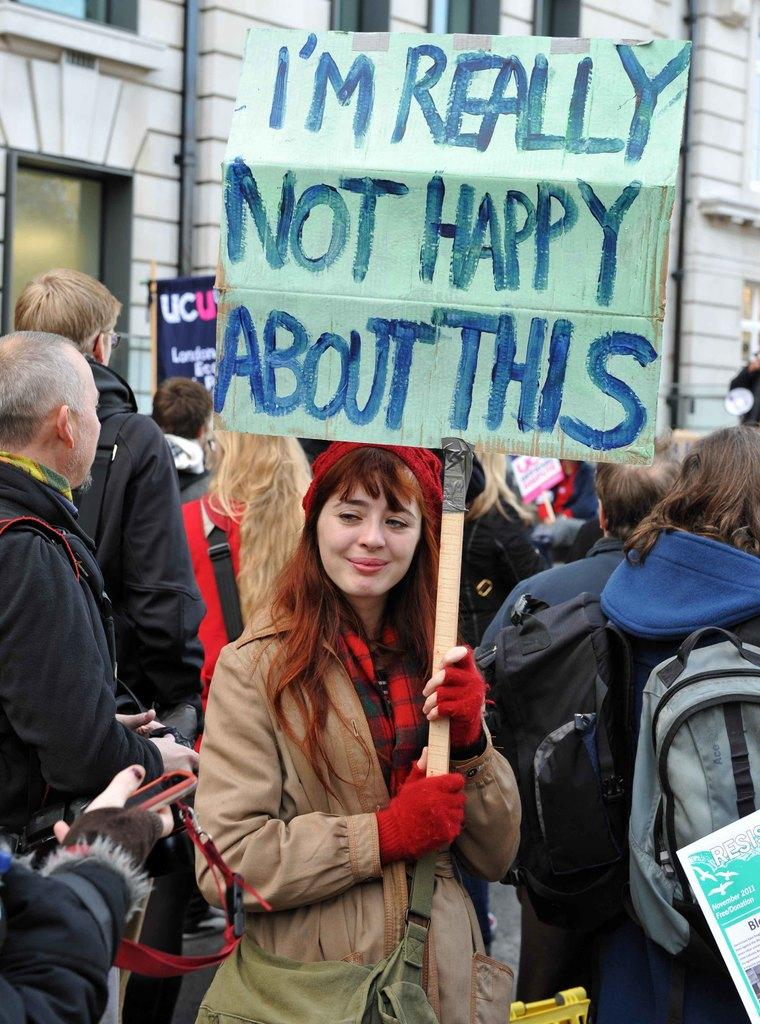Luggage-and-bags: (473, 589, 649, 958), (0, 760, 269, 984), (622, 622, 759, 1023), (191, 839, 447, 1023), (71, 400, 207, 746), (190, 494, 251, 648), (0, 514, 83, 591), (529, 505, 596, 577)
